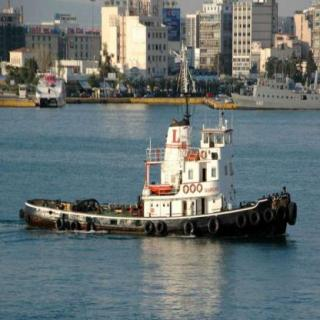Tug Boat: (75, 103, 298, 237)
